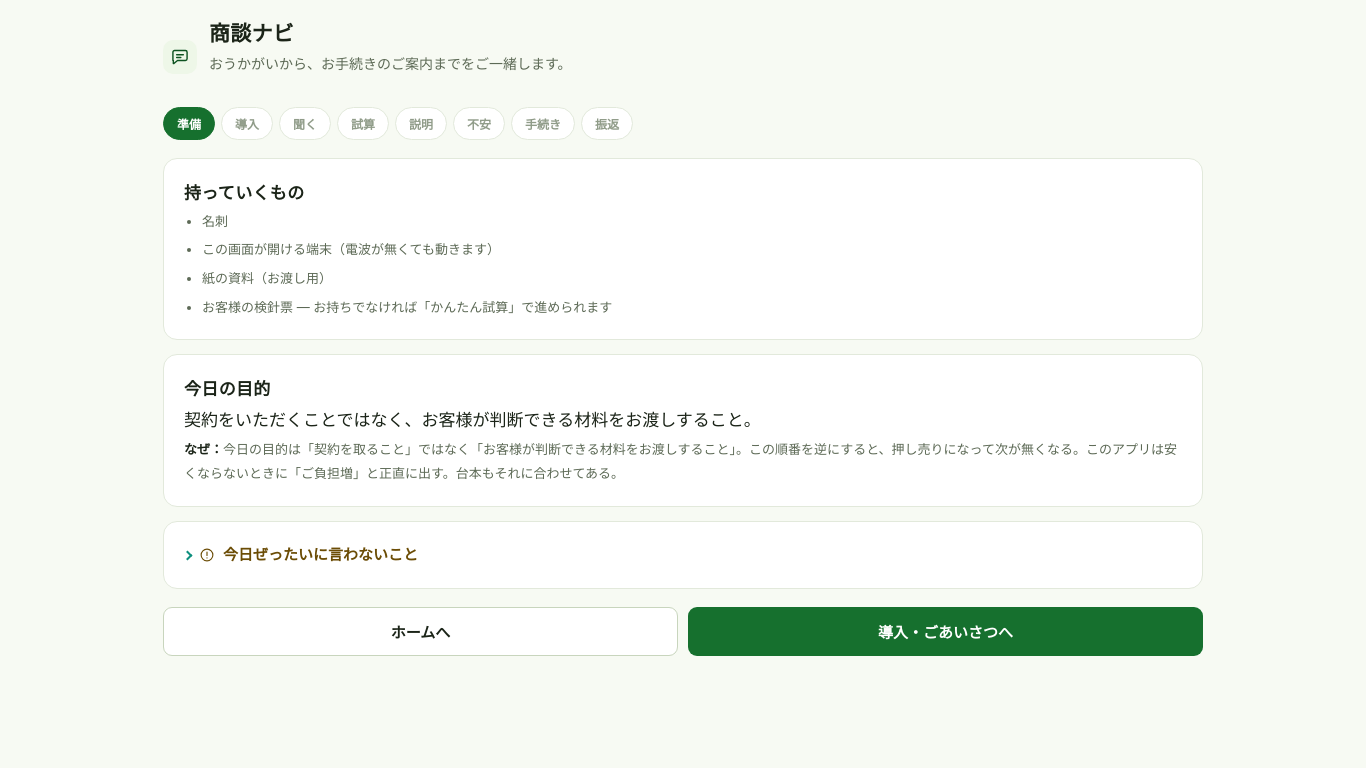
it: 導入 › お客様の様子を選ぶと、足す一言が変わる
The width and height of the screenshot is (1366, 768).
Click the button "導入": coordinates (247, 123) [221,107,273,140]
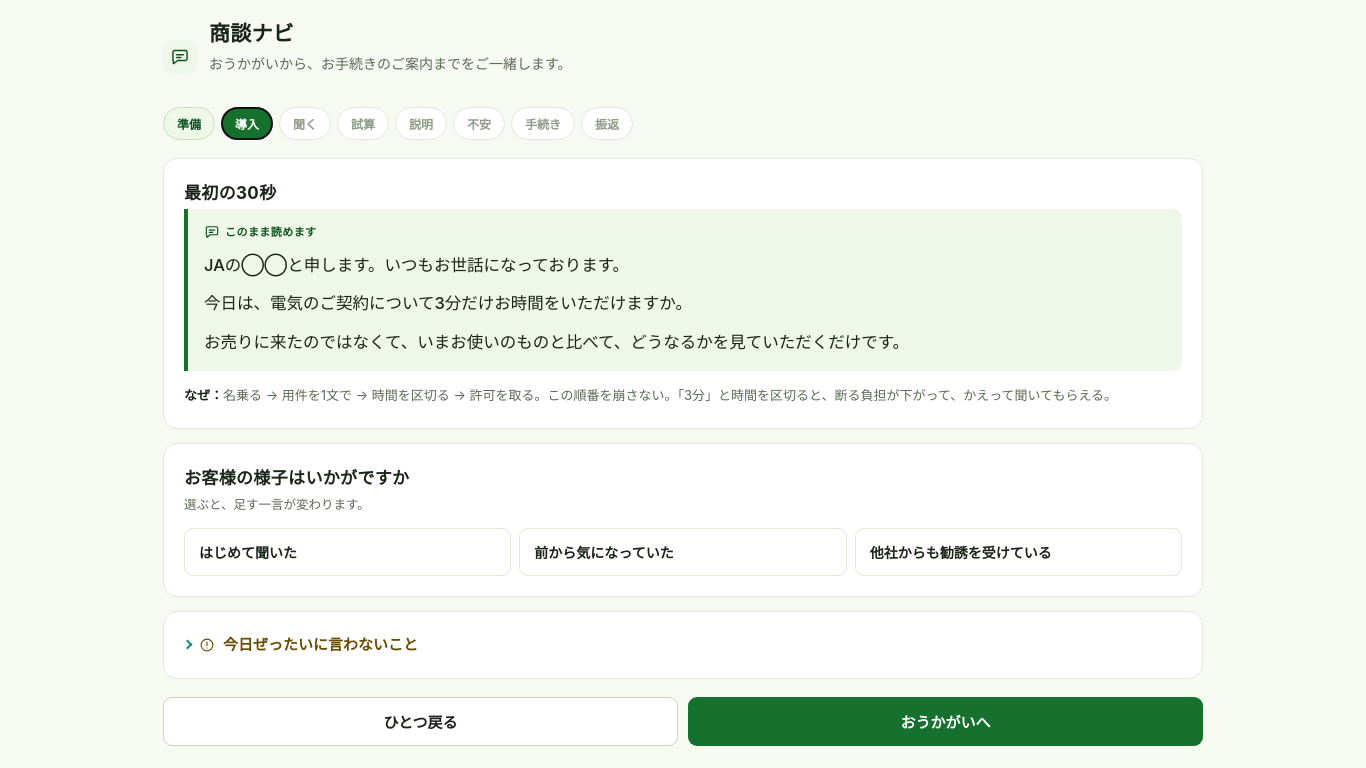
expect the text "他社さんからもお話があったのですね" is not shown: met
Click the button "他社からも勧誘を受けている": coordinates (1018, 552) [855,528,1182,576]
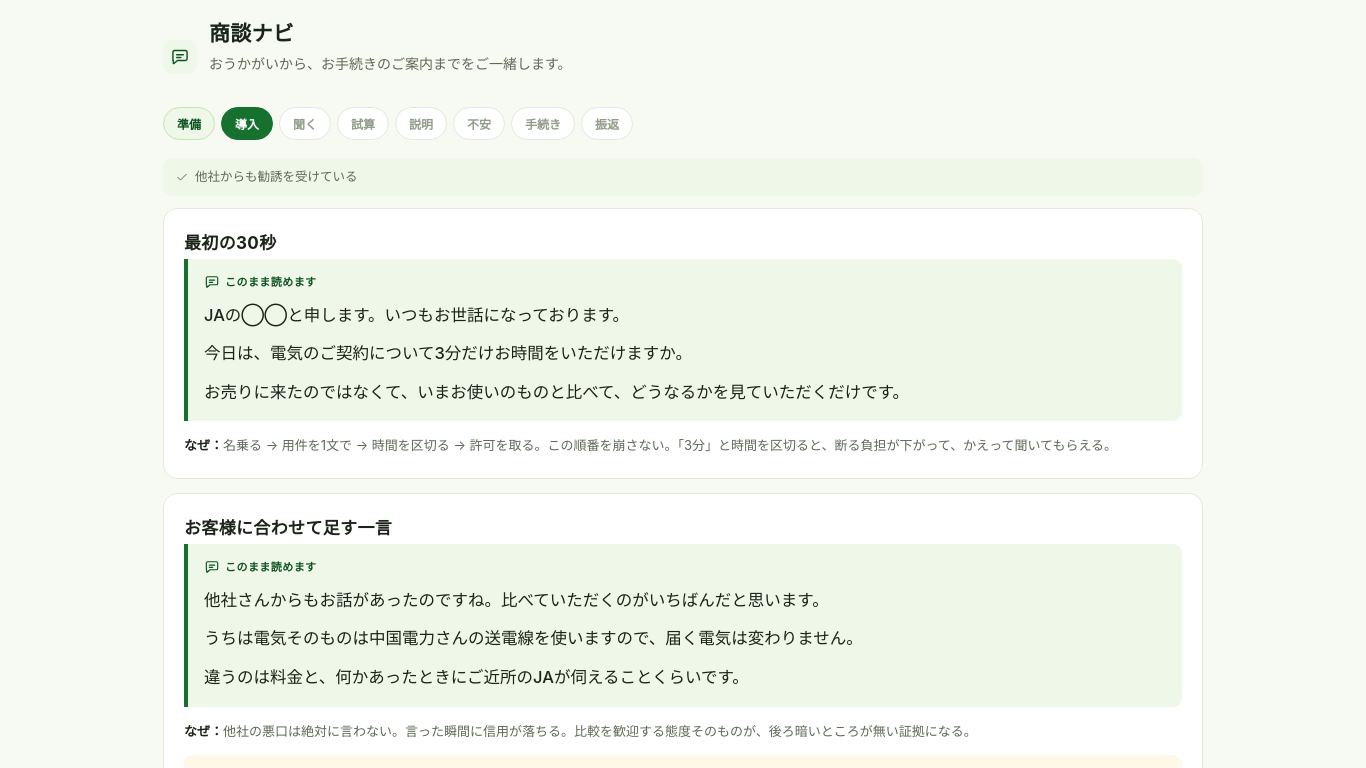
expect the text "他社さんからもお話があったのですね。比べていただくのがいちばんだと思います。" is shown: met, box [204,590,829,610]
